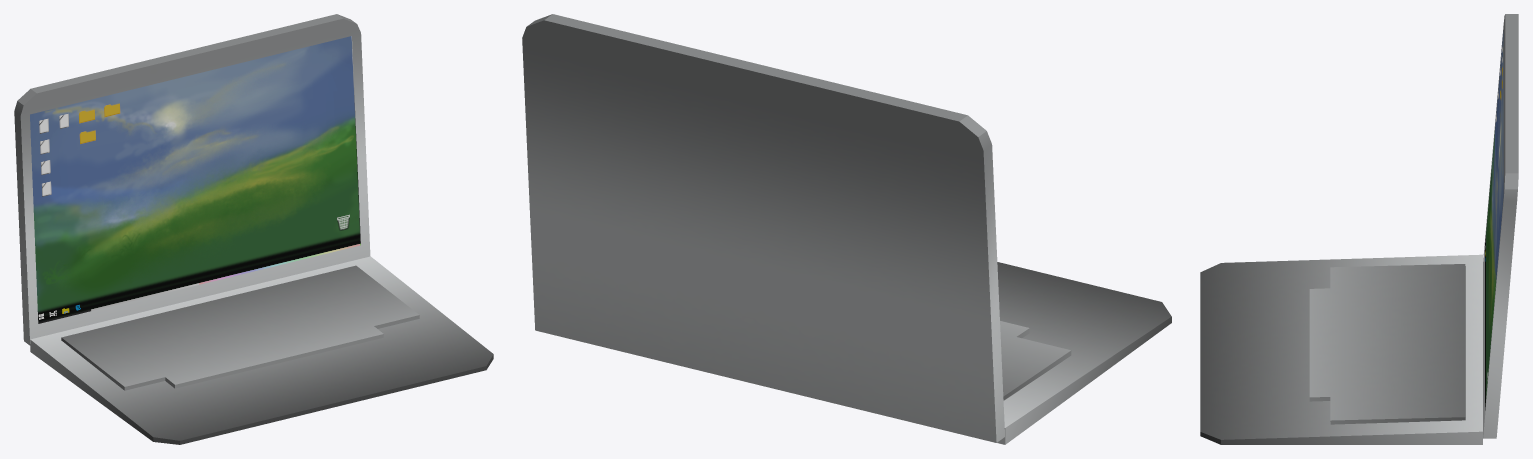
File: Laptop_On.fbx
3 views of the same model, side by side, from view 1: azimuth 30°, elevation 25°; view 2: azimuth 150°, elevation 25°; view 3: azimuth 270°, elevation 25° (orthographic). The views are drawn at different scales.
Visible parts, largest first — view 1: Laptop_On; view 2: Laptop_On; view 3: Laptop_On.
Part boxes in pixels (left/top/right/bottom): Laptop_On: left=14, top=14, right=493, bottom=444; Laptop_On: left=522, top=14, right=1171, bottom=444; Laptop_On: left=1200, top=14, right=1518, bottom=444.
Bounding box in the file's own units: 41.29 × 28.59 × 31.41.
